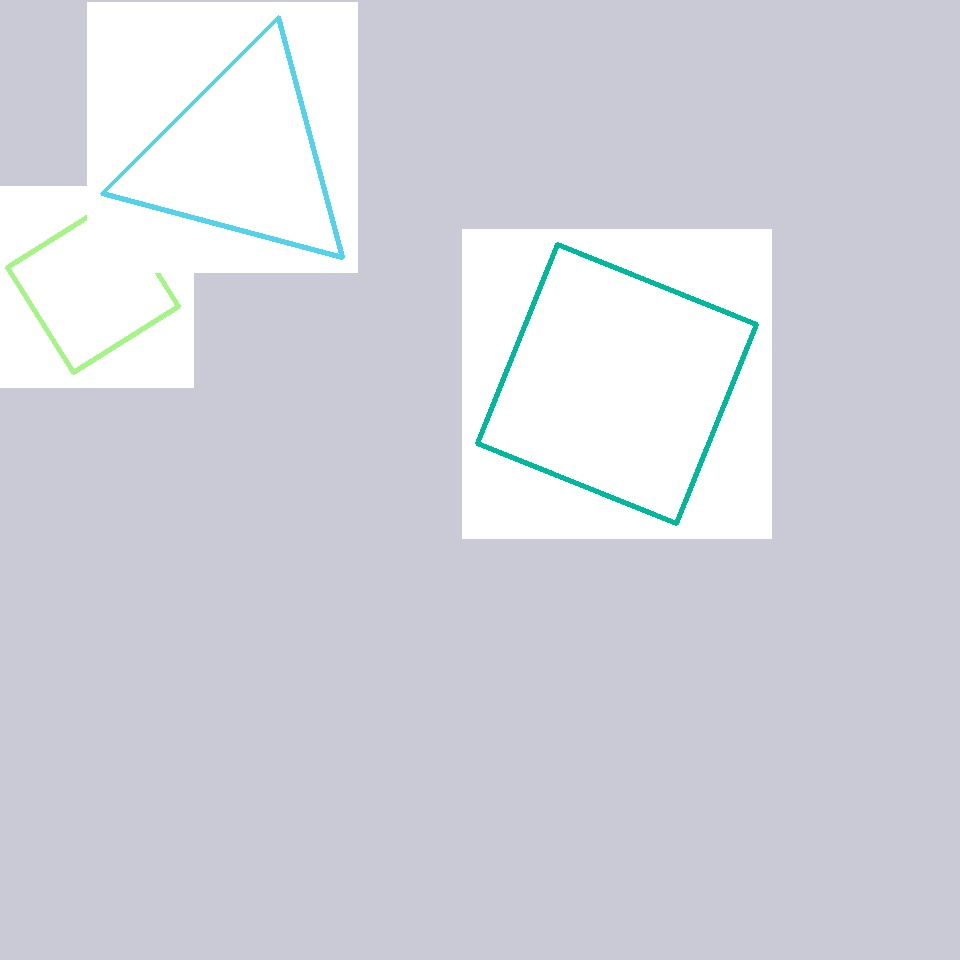circle: (121, 36, 361, 276), (729, 376, 825, 486)
square: (478, 244, 756, 524), (8, 202, 178, 372)
triangle: (536, 510, 880, 852)
